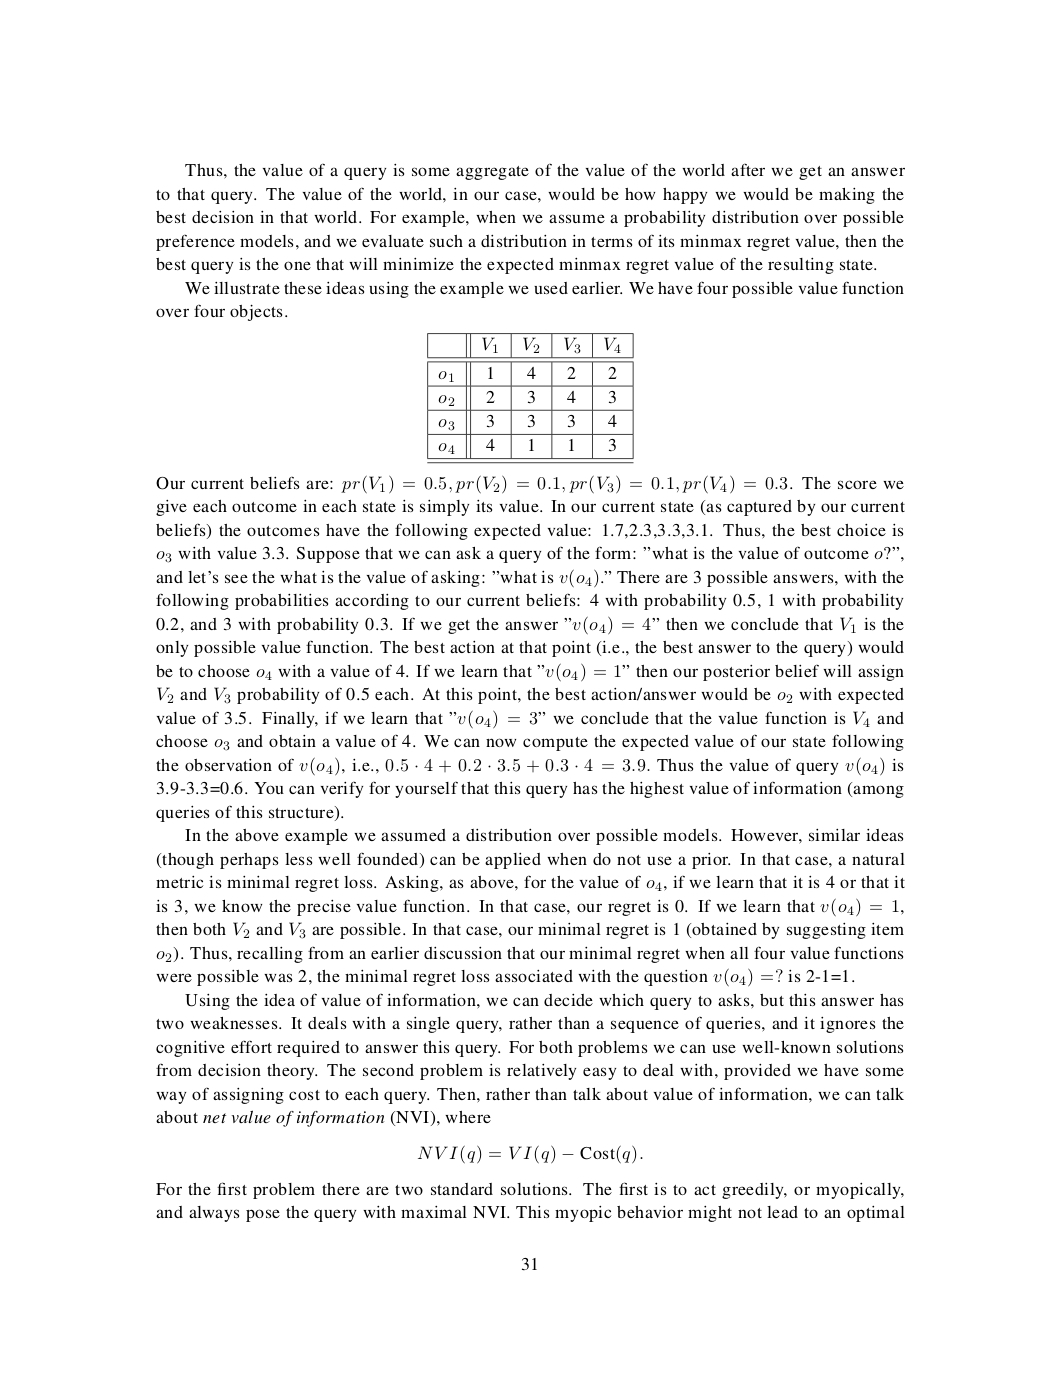Table: (427, 332, 633, 464)
formula: (417, 1145, 642, 1163)
